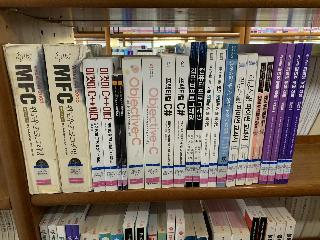book-spine: (4, 40, 61, 197), (43, 41, 93, 194), (281, 42, 313, 184), (273, 42, 304, 185), (265, 42, 296, 184), (259, 43, 288, 185), (216, 43, 238, 187), (243, 56, 267, 185), (83, 59, 106, 192), (225, 54, 248, 187), (206, 49, 227, 188), (122, 59, 144, 189), (252, 56, 274, 184), (97, 58, 118, 191), (236, 53, 257, 186), (198, 49, 216, 187), (142, 59, 161, 189), (172, 56, 189, 187), (184, 42, 199, 188), (192, 42, 207, 188), (160, 56, 175, 188), (117, 75, 128, 191), (112, 76, 122, 190)
